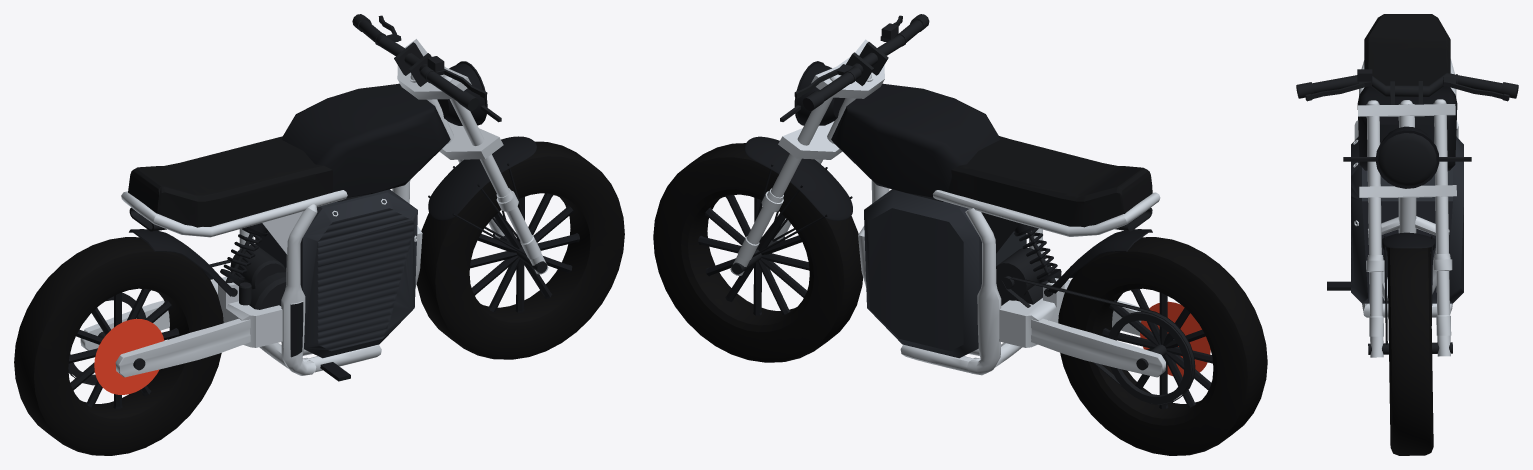
File: roadpro.glb
3 renders of one model, left to right at view 1: azimuth 30°, elevation 25°; view 2: azimuth 150°, elevation 25°; view 3: azimuth 270°, elevation 25°, orthographic. The views are drawn at different scales.
Parts seen in each view (by area): view 1: Front_tire_2, Front_tire, Boole, tank, seat, Cube_5, Null_1, Subdivision_Surface_1, Disc, Cylinder_7, Cylinder_5, motor_base (+10 smaller); view 2: Front_tire_2, Front_tire, Boole, tank, seat, Cube_5, Subdivision_Surface_1, Null_1, Cylinder_7, Cylinder_5, motor_base, Tube_2_2 (+11 smaller); view 3: Front_tire, Cylinder_7, Boole, seat, Cylinder_5_2, tank, Cylinder, Cube_3_5, Cube_3_6, Cylinder_3_2, Subdivision_Surface_1, Cube_3_4 (+8 smaller).
Part boxes in pixels (x1=…): Front_tire_2: x1=14, y1=237, x2=223, y2=455; Front_tire: x1=416, y1=141, x2=624, y2=359; Boole: x1=255, y1=189, x2=417, y2=358; tank: x1=281, y1=83, x2=450, y2=201; seat: x1=128, y1=136, x2=332, y2=227; Cube_5: x1=80, y1=300, x2=250, y2=377; Null_1: x1=239, y1=204, x2=317, y2=375; Subdivision_Surface_1: x1=428, y1=136, x2=536, y2=220; Disc: x1=94, y1=319, x2=164, y2=394; Cylinder_7: x1=442, y1=75, x2=548, y2=274; Cylinder_5: x1=121, y1=190, x2=347, y2=237; motor_base: x1=211, y1=276, x2=282, y2=347; Front_tire_2: x1=1058, y1=237, x2=1267, y2=455; Front_tire: x1=653, y1=143, x2=862, y2=362; Boole: x1=864, y1=189, x2=1026, y2=358; tank: x1=831, y1=83, x2=999, y2=201; seat: x1=948, y1=136, x2=1152, y2=227; Cube_5: x1=1031, y1=300, x2=1165, y2=377; Subdivision_Surface_1: x1=744, y1=136, x2=852, y2=220; Null_1: x1=965, y1=208, x2=1046, y2=375; Cylinder_7: x1=730, y1=74, x2=840, y2=275; Cylinder_5: x1=933, y1=190, x2=1160, y2=236; motor_base: x1=999, y1=278, x2=1070, y2=347; Tube_2_2: x1=1108, y1=311, x2=1191, y2=403; Front_tire: x1=1387, y1=247, x2=1433, y2=455; Cylinder_7: x1=1366, y1=99, x2=1452, y2=357; Boole: x1=1351, y1=136, x2=1463, y2=303; seat: x1=1364, y1=14, x2=1450, y2=87; Cylinder_5_2: x1=1375, y1=126, x2=1439, y2=188; tank: x1=1357, y1=86, x2=1457, y2=170; Cylinder: x1=1312, y1=72, x2=1502, y2=96; Cube_3_5: x1=1358, y1=104, x2=1455, y2=116; Cube_3_6: x1=1359, y1=185, x2=1456, y2=197; Cylinder_3_2: x1=1368, y1=216, x2=1449, y2=300; Subdivision_Surface_1: x1=1382, y1=232, x2=1435, y2=251; Cube_3_4: x1=1305, y1=82, x2=1509, y2=101.
Bounding box in the file's own units: 2.06 × 1.11 × 0.6905.
